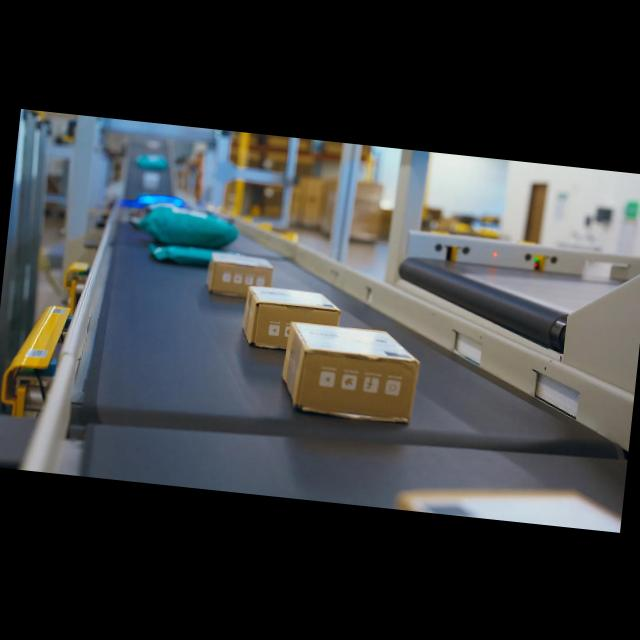box: (282, 320, 419, 422), (242, 285, 340, 348), (206, 251, 273, 296)
mailer: (135, 205, 238, 248), (149, 242, 214, 265), (121, 192, 184, 207), (136, 152, 167, 169), (146, 201, 178, 210)
